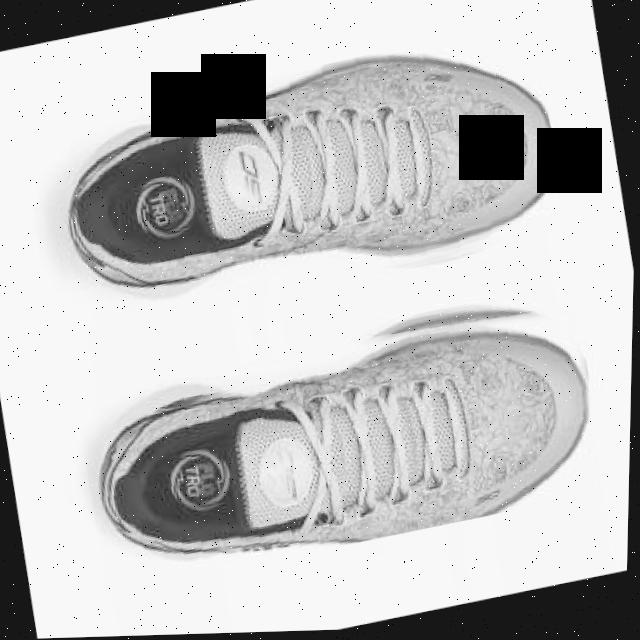shoe: (32, 23, 574, 348), (71, 282, 612, 596)
